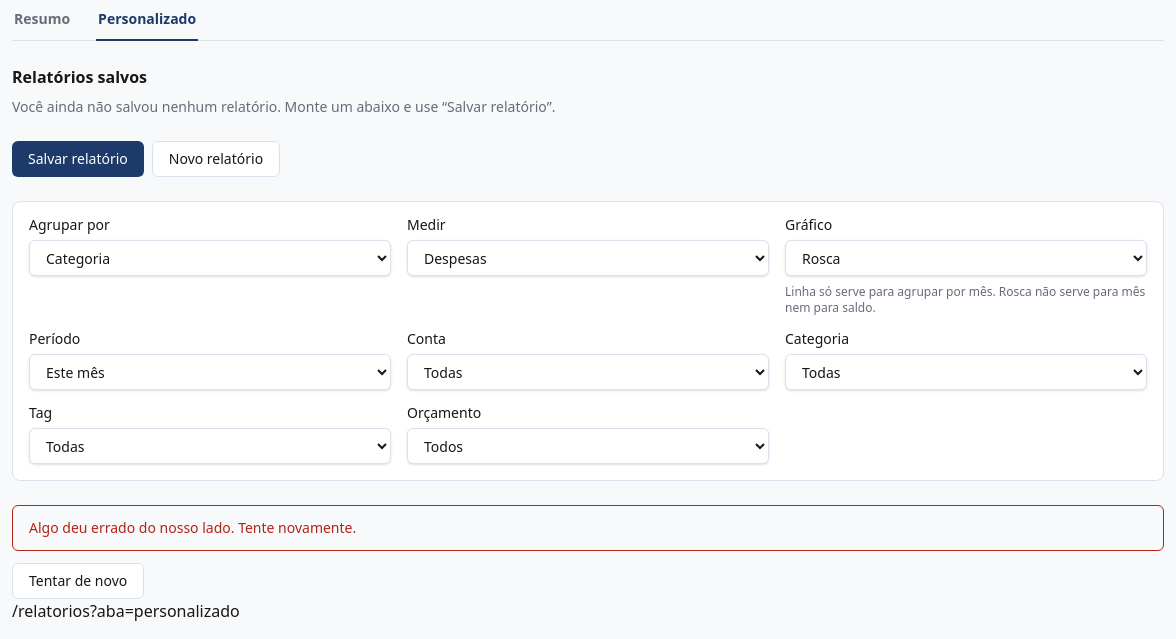
erro do servidor mostra o aviso e tenta de novo
This screenshot has width=1176, height=639.
Check: the element named "Montar relatório" is shown, box [12, 201, 1164, 481]
Click the button "Tentar de novo". click: [78, 581]
box: [12, 563, 144, 599]
(page scrolled)
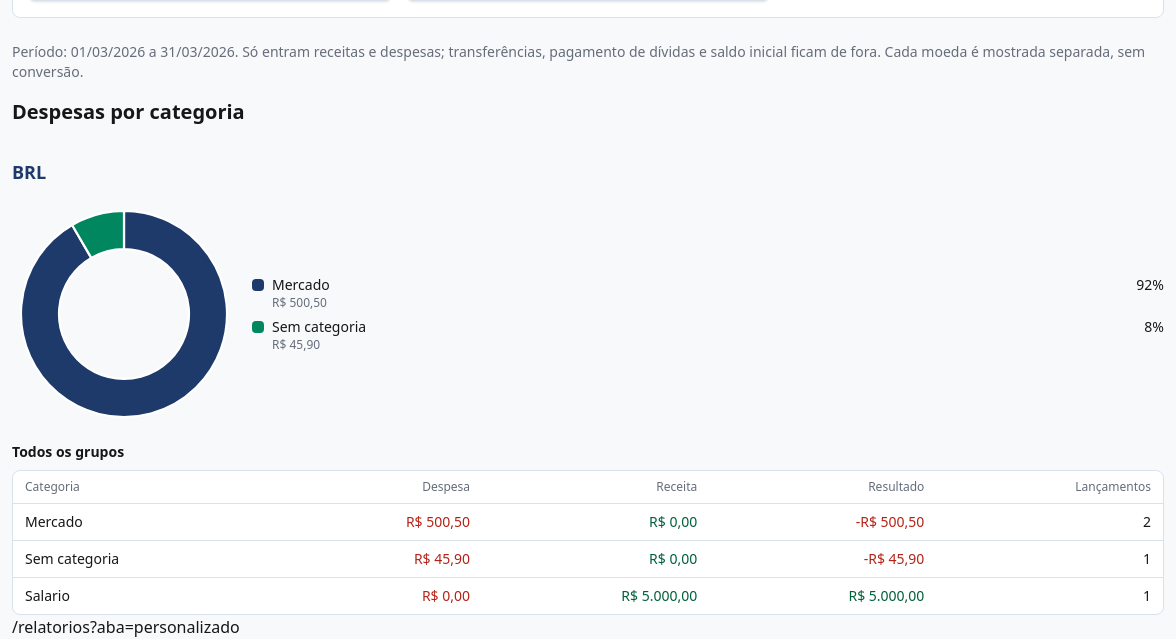
Check: the element named "Despesas por categoria em BRL" is shown
